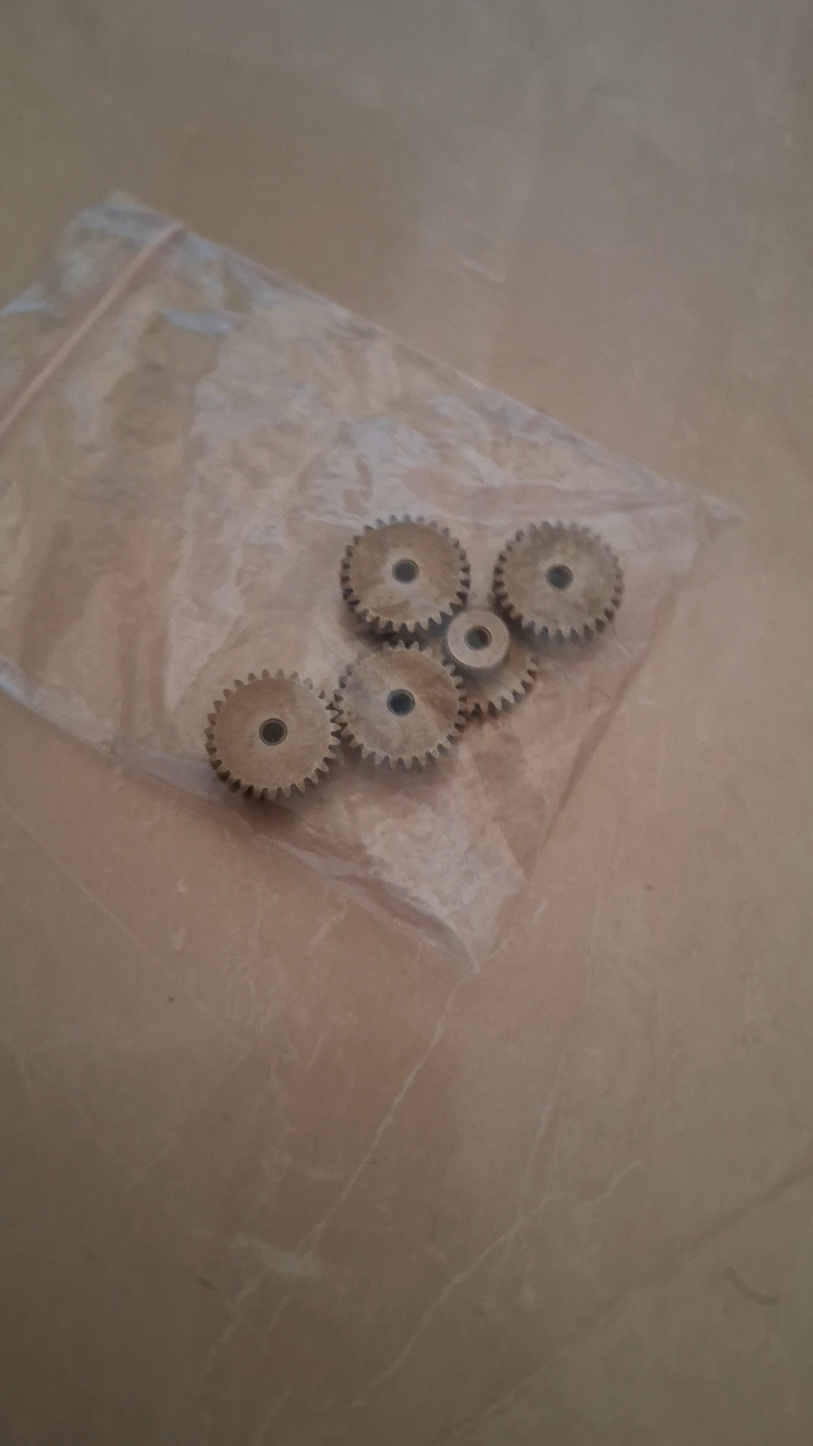spur gear: (206, 670, 338, 799), (336, 642, 465, 768), (341, 517, 469, 639), (493, 522, 623, 640), (435, 607, 537, 716)
